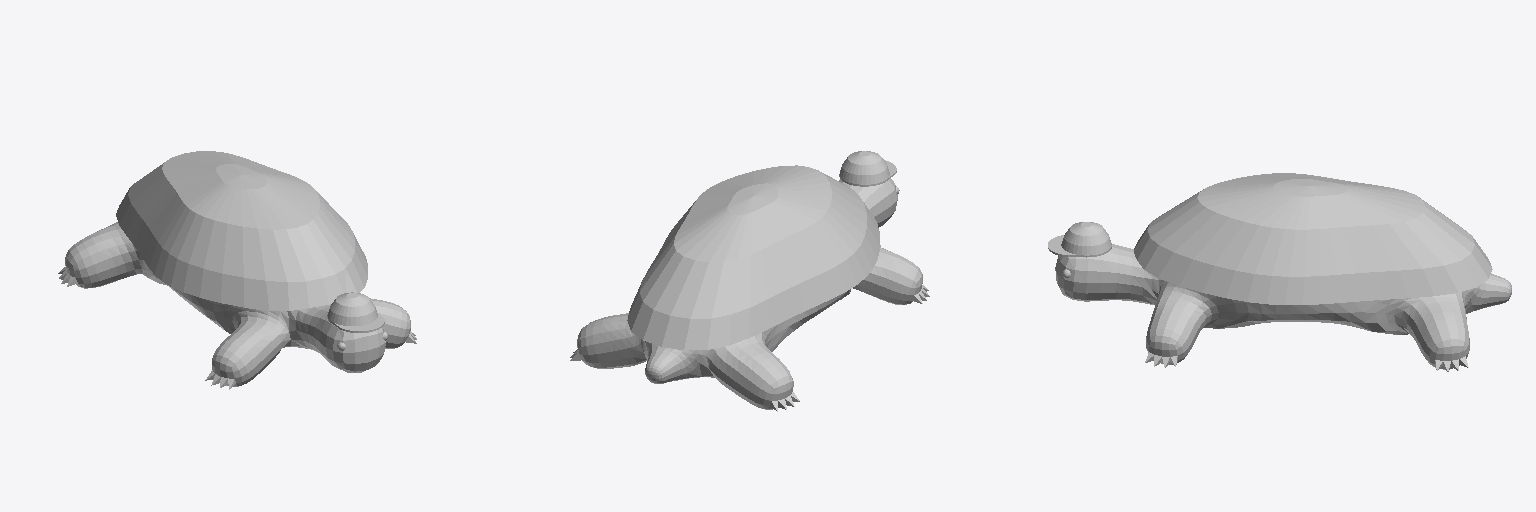
The model's file is kilppari.obj.
3 renders of one model, left to right at view 1: azimuth 30°, elevation 25°; view 2: azimuth 150°, elevation 25°; view 3: azimuth 270°, elevation 25°, orthographic.
Visible parts, largest first — view 1: hupsu_kilpi_Cube.001, hupsu_kilppari_Cube, Cylinder; view 2: hupsu_kilpi_Cube.001, hupsu_kilppari_Cube, Cylinder; view 3: hupsu_kilpi_Cube.001, hupsu_kilppari_Cube, Cylinder.
Part boxes in pixels (bbox=[...]): hupsu_kilpi_Cube.001: bbox=[116, 151, 367, 310]; hupsu_kilppari_Cube: bbox=[58, 222, 416, 389]; Cylinder: bbox=[327, 292, 384, 332]; hupsu_kilpi_Cube.001: bbox=[627, 165, 880, 349]; hupsu_kilppari_Cube: bbox=[570, 178, 929, 411]; Cylinder: bbox=[839, 151, 896, 186]; hupsu_kilpi_Cube.001: bbox=[1134, 173, 1492, 304]; hupsu_kilppari_Cube: bbox=[1055, 244, 1511, 371]; Cylinder: bbox=[1048, 222, 1111, 257].
Size of the model in its own units: 1.68 by 1.02 by 3.04.